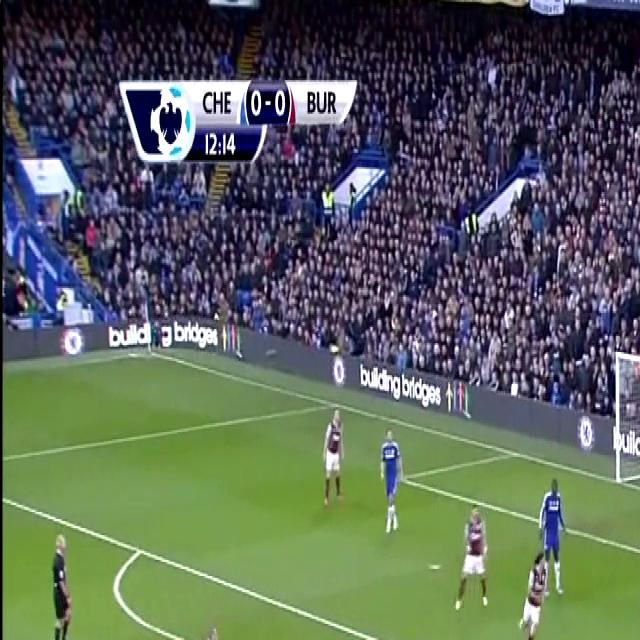referee: (47, 510, 80, 640)
soccer-player: (450, 494, 493, 622), (370, 417, 409, 547), (539, 462, 571, 601), (317, 395, 352, 518), (518, 540, 549, 640), (184, 611, 223, 640)
